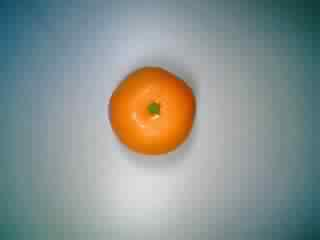orange: (104, 62, 200, 158)
